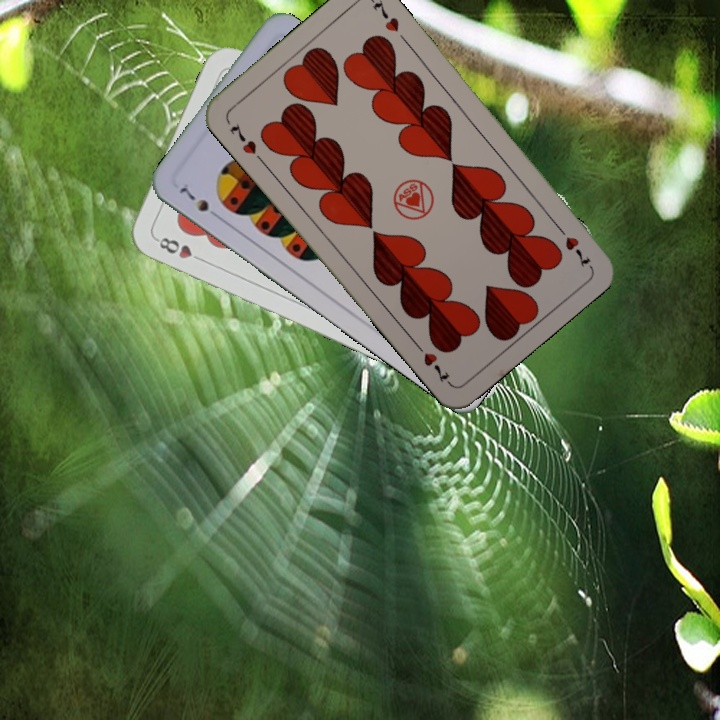H7: (551, 220, 594, 270), (226, 120, 267, 166)
H8: (151, 233, 207, 265)
S7: (176, 182, 224, 222)
